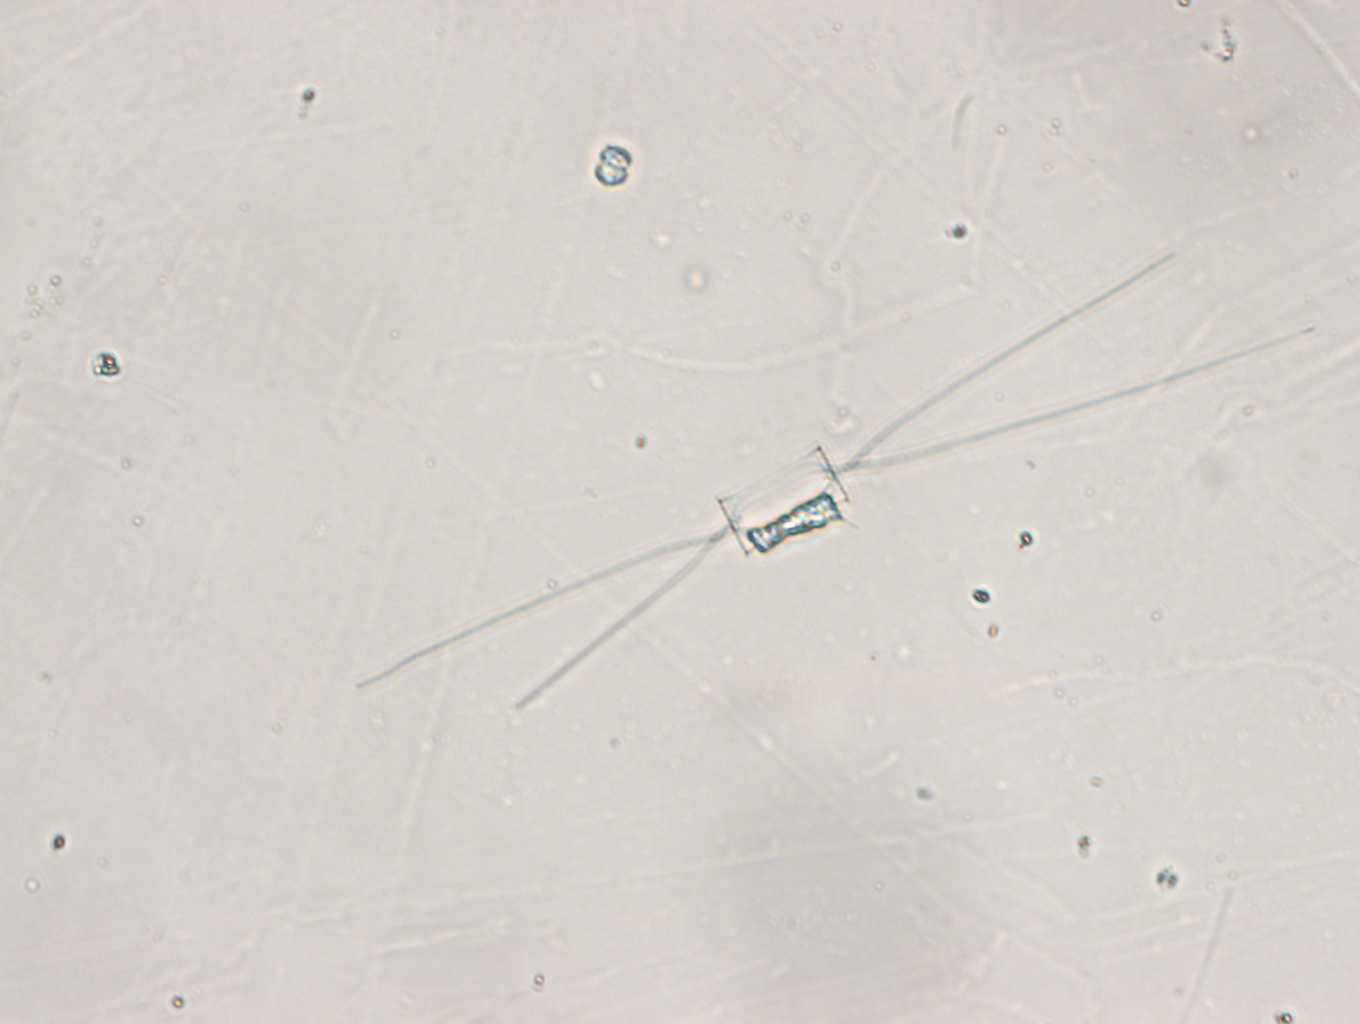chaetoceros: (347, 243, 1313, 715)
